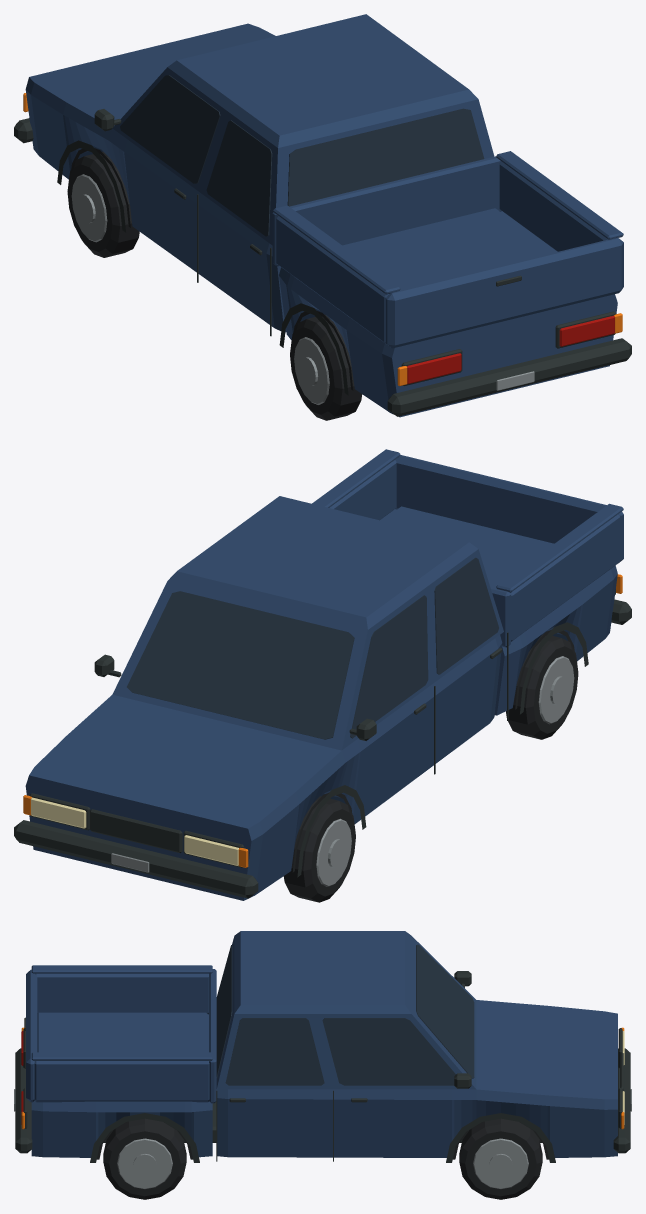
The model's file is 18_DoubleCabPickup.fbx.
3 renders of one model, top to bottom at view 1: azimuth 30°, elevation 25°; view 2: azimuth 150°, elevation 25°; view 3: azimuth 270°, elevation 25°, orthographic. The views are drawn at different scales.
Visible parts, largest first — view 1: Raked cabin with chamfered roof.017, Continuous body with open wheel arches.018, Tailgate.001, Continuous body with open wheel arches.019, Framed rear windshield.012, Bed forward wall.001, Recessed cargo bed floor.001, Side glass -1 pane 1.013, Moulded bumper.035, Cargo bed side.002, Side glass -1 pane 0.015, Cargo bed side.003 (+10 smaller); view 2: Continuous body with open wheel arches.018, Raked cabin with chamfered roof.017, Framed opaque windshield.017, Tailgate.001, Side glass -1 pane 1.013, Moulded bumper.034, Cargo bed side.002, Continuous body with open wheel arches.019, Side glass -1 pane 0.015, Recessed cargo bed floor.001, WheelFL_ShapedSidewall.017, WheelRL_ShapedSidewall.017 (+11 smaller); view 3: Continuous body with open wheel arches.018, Raked cabin with chamfered roof.017, Cargo bed side.003, Side glass 1 pane 1.013, Recessed cargo bed floor.001, Cargo bed side.002, Continuous body with open wheel arches.019, Side glass 1 pane 0.015, Framed opaque windshield.017, WheelFR_ShapedSidewall.017, WheelRR_ShapedSidewall.017, WheelFR_Rim.017 (+12 smaller).
Boxes of the visible parts, bbox=[...] form: Raked cabin with chamfered roof.017: bbox=[112, 14, 494, 245]; Continuous body with open wheel arches.018: bbox=[25, 23, 286, 332]; Tailgate.001: bbox=[386, 237, 623, 348]; Continuous body with open wheel arches.019: bbox=[279, 211, 617, 417]; Framed rear windshield.012: bbox=[287, 108, 484, 206]; Bed forward wall.001: bbox=[272, 156, 501, 266]; Recessed cargo bed floor.001: bbox=[342, 208, 555, 290]; Side glass -1 pane 1.013: bbox=[120, 75, 220, 183]; Moulded bumper.035: bbox=[387, 338, 631, 416]; Cargo bed side.002: bbox=[276, 216, 389, 344]; Side glass -1 pane 0.015: bbox=[206, 120, 272, 236]; Cargo bed side.003: bbox=[499, 161, 607, 251]; Continuous body with open wheel arches.018: bbox=[25, 635, 502, 900]; Raked cabin with chamfered roof.017: bbox=[112, 496, 503, 750]; Framed opaque windshield.017: bbox=[127, 591, 354, 739]; Tailgate.001: bbox=[395, 455, 623, 563]; Side glass -1 pane 1.013: bbox=[350, 595, 428, 738]; Moulded bumper.034: bbox=[14, 820, 258, 898]; Cargo bed side.002: bbox=[510, 514, 620, 641]; Continuous body with open wheel arches.019: bbox=[380, 509, 617, 715]; Side glass -1 pane 0.015: bbox=[434, 557, 498, 674]; Recessed cargo bed floor.001: bbox=[382, 506, 553, 587]; WheelFL_ShapedSidewall.017: bbox=[283, 796, 355, 902]; WheelRL_ShapedSidewall.017: bbox=[506, 634, 578, 739]; Continuous body with open wheel arches.018: bbox=[216, 1000, 617, 1157]; Raked cabin with chamfered roof.017: bbox=[216, 931, 476, 1089]; Cargo bed side.003: bbox=[34, 1061, 209, 1102]; Side glass 1 pane 1.013: bbox=[322, 1018, 455, 1085]; Recessed cargo bed floor.001: bbox=[37, 1012, 208, 1052]; Cargo bed side.002: bbox=[35, 973, 208, 1014]; Continuous body with open wheel arches.019: bbox=[31, 1014, 212, 1157]; Side glass 1 pane 0.015: bbox=[225, 1018, 324, 1085]; Framed opaque windshield.017: bbox=[416, 944, 474, 1078]; WheelFR_ShapedSidewall.017: bbox=[459, 1118, 542, 1199]; WheelRR_ShapedSidewall.017: bbox=[103, 1118, 186, 1199]; WheelFR_Rim.017: bbox=[473, 1138, 528, 1188].
Bounding box in the file's own units: 226 × 182 × 549.
